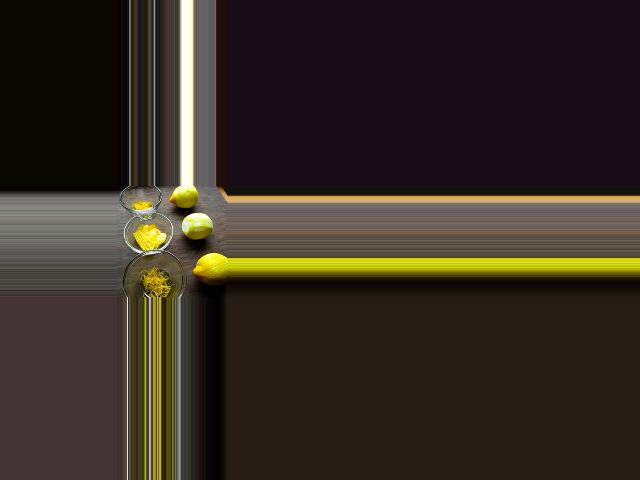lemon: (188, 253, 225, 283)
